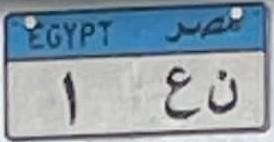1: (57, 65, 89, 130)
ع: (159, 60, 197, 129)
ن: (207, 59, 237, 126)
